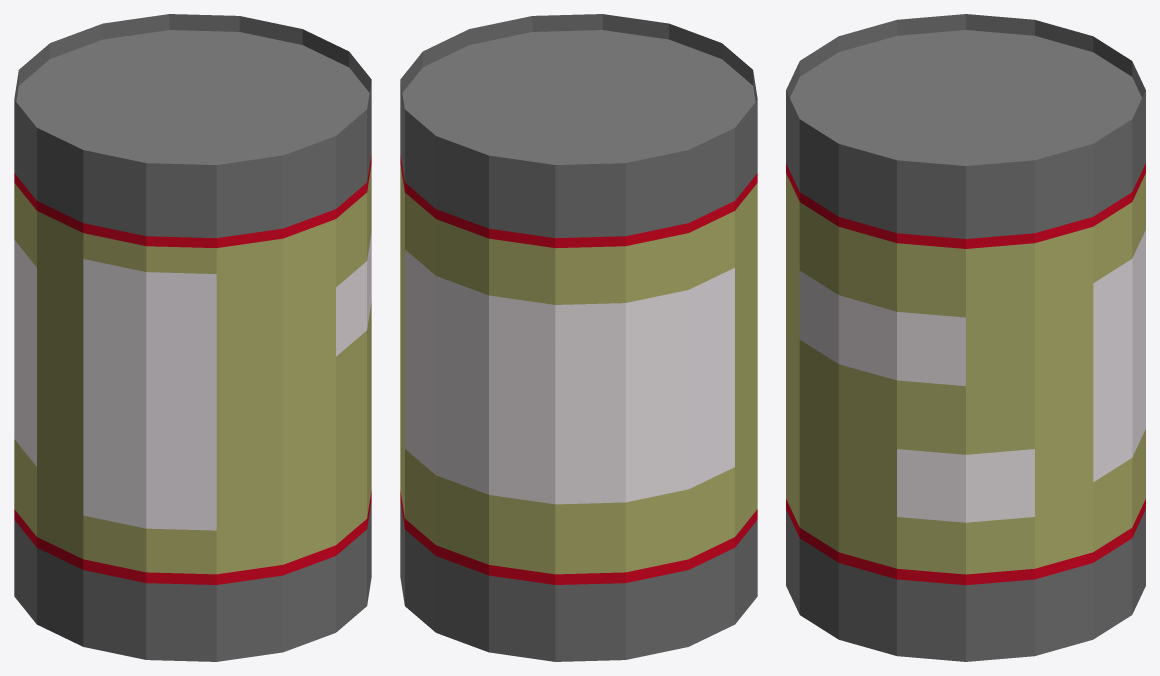
Rendered from can.gltf.
3 views of the same model, side by side, from view 1: azimuth 30°, elevation 25°; view 2: azimuth 150°, elevation 25°; view 3: azimuth 270°, elevation 25° (orthographic).
Visible parts, largest first — view 1: Cube.001; view 2: Cube.001; view 3: Cube.001.
Boxes of the visible parts, x1,y1,x2,y2 form: Cube.001: [14, 14, 371, 661]; Cube.001: [400, 14, 757, 661]; Cube.001: [786, 14, 1145, 661].
Size of the model in its own units: 0.2486 by 0.3781 by 0.2486.
